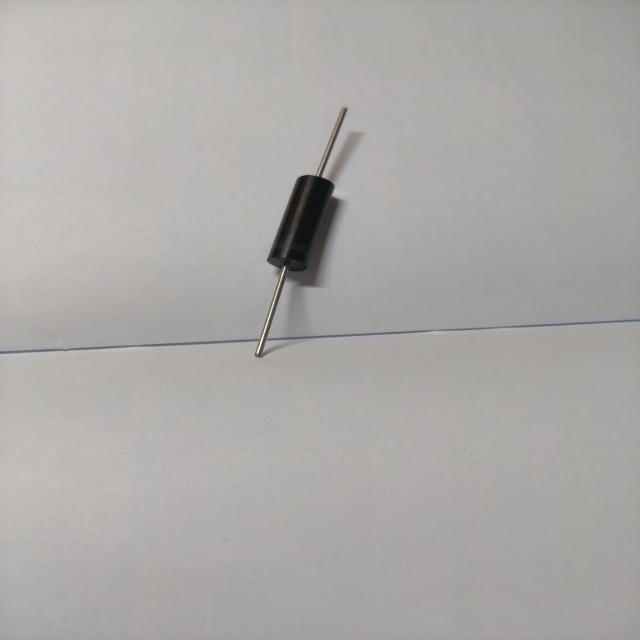resistor: (234, 94, 365, 361)
